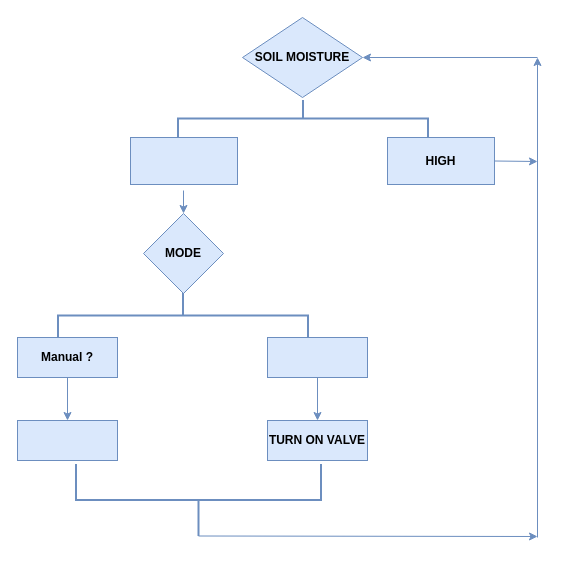
The diagram is 563 pixels wide and 563 high, and some of its shapes have lost their labels. The box of each missing label's shape, as (x1, y1, x2, y2) in pixels:
ALERT USER: (16, 420, 118, 460)
Automatic: (266, 336, 368, 378)
LOW: (130, 136, 238, 184)
